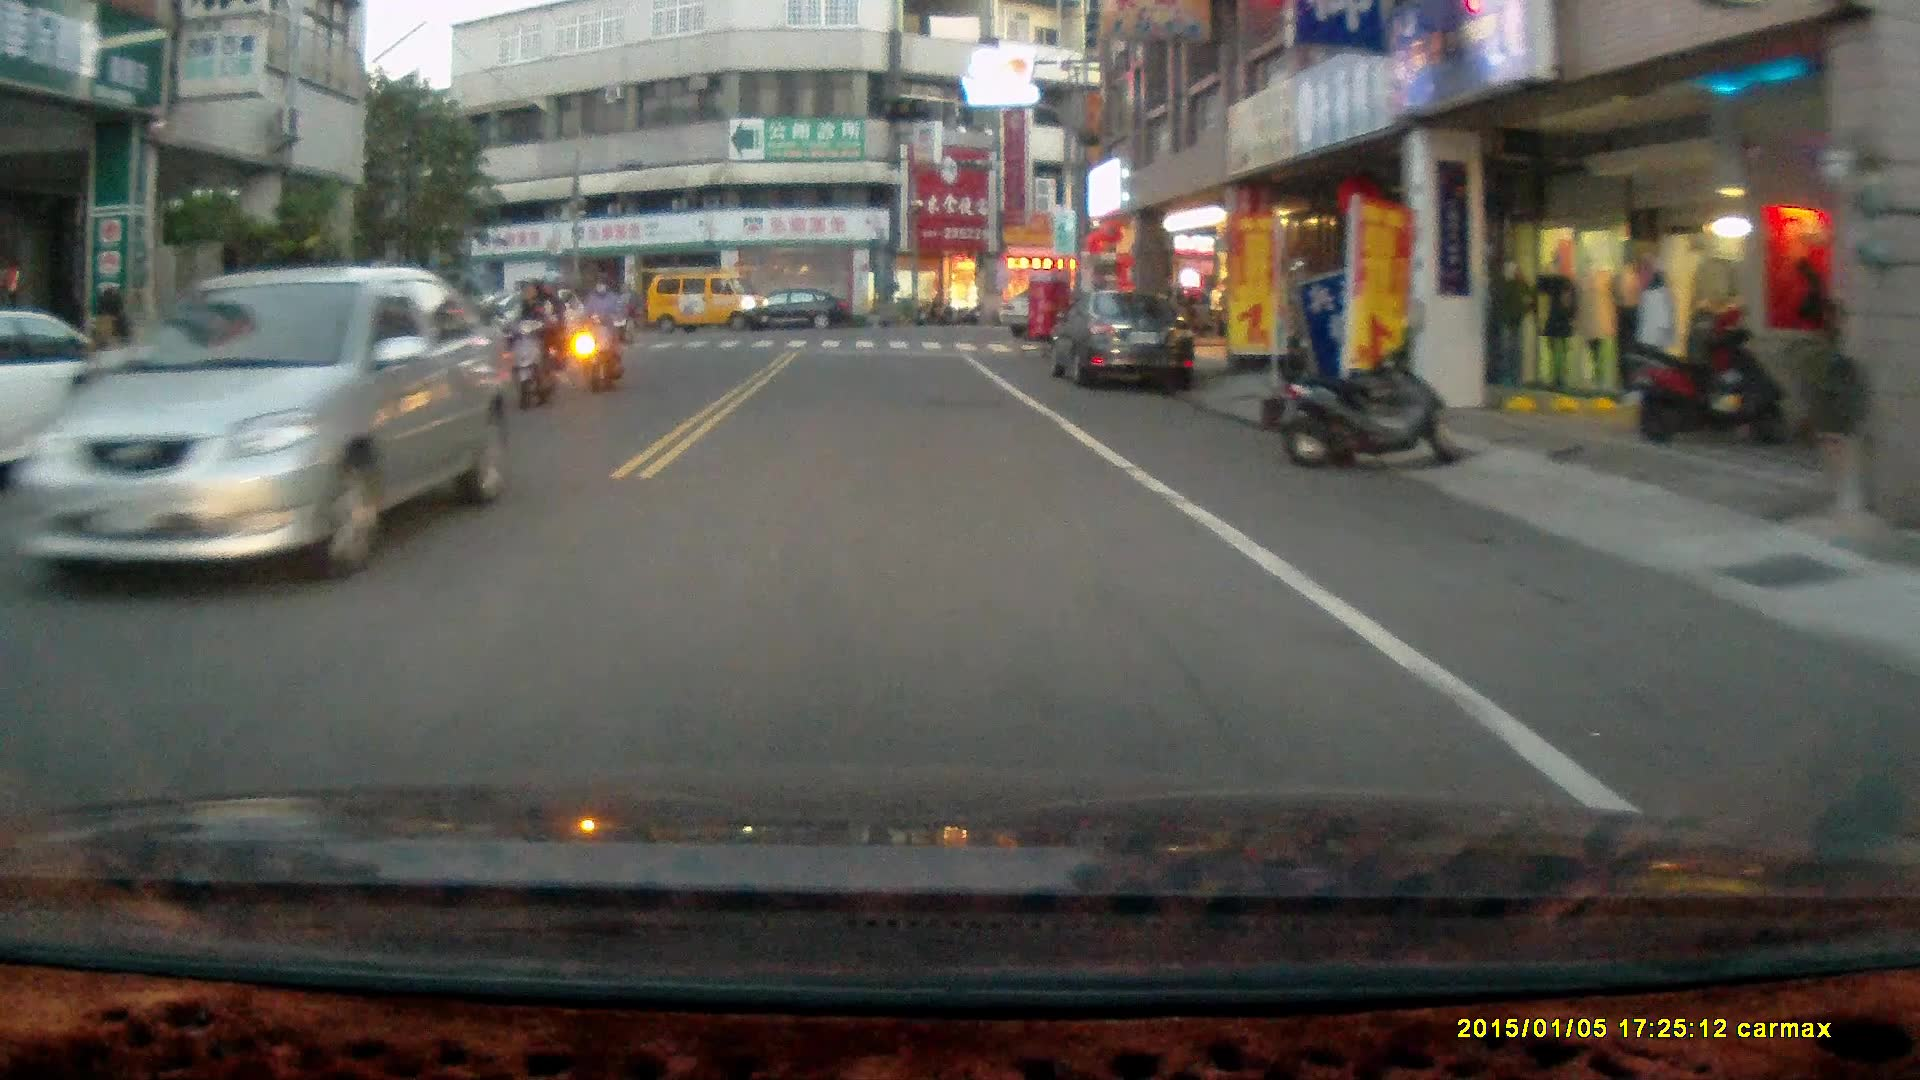pedestrian: (70, 285, 137, 440)
rider: (501, 270, 568, 414), (576, 272, 625, 396)
vehicle: (138, 270, 491, 615), (1039, 284, 1205, 401), (641, 265, 774, 337), (733, 289, 853, 335)
